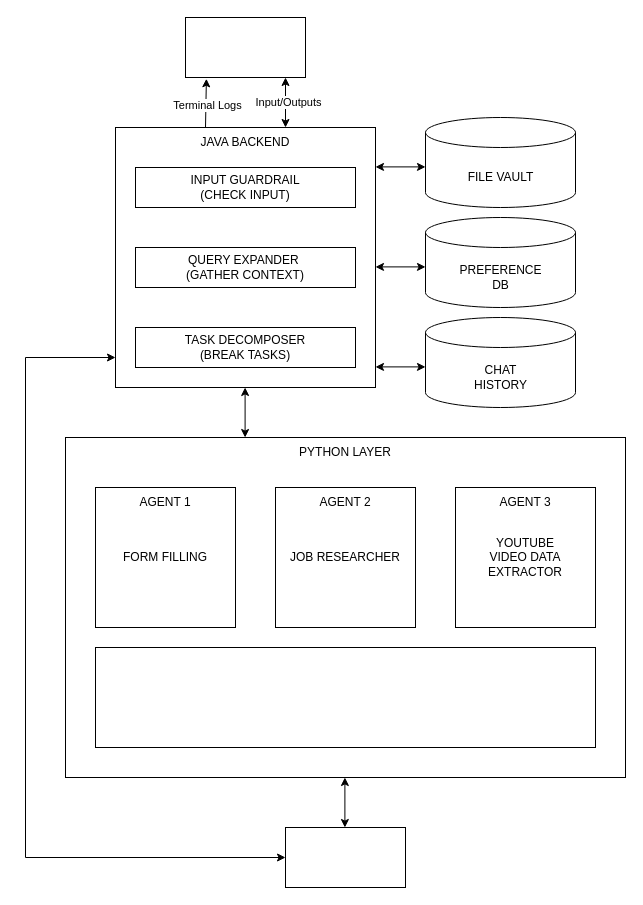
Image size: 643x905. Some labels were removed from this diagram. The shapes that lost their labels are listed below. From the top down, each one's centre as x and y in pixels, then its label:
At (x=245, y=47): "FRONTEND (REACT)".
At (x=345, y=697): "PLAYWRIGHT (BROWSER SESSION + TOOL CONTROL)".
At (x=345, y=857): "OLLAMA SERVER".
